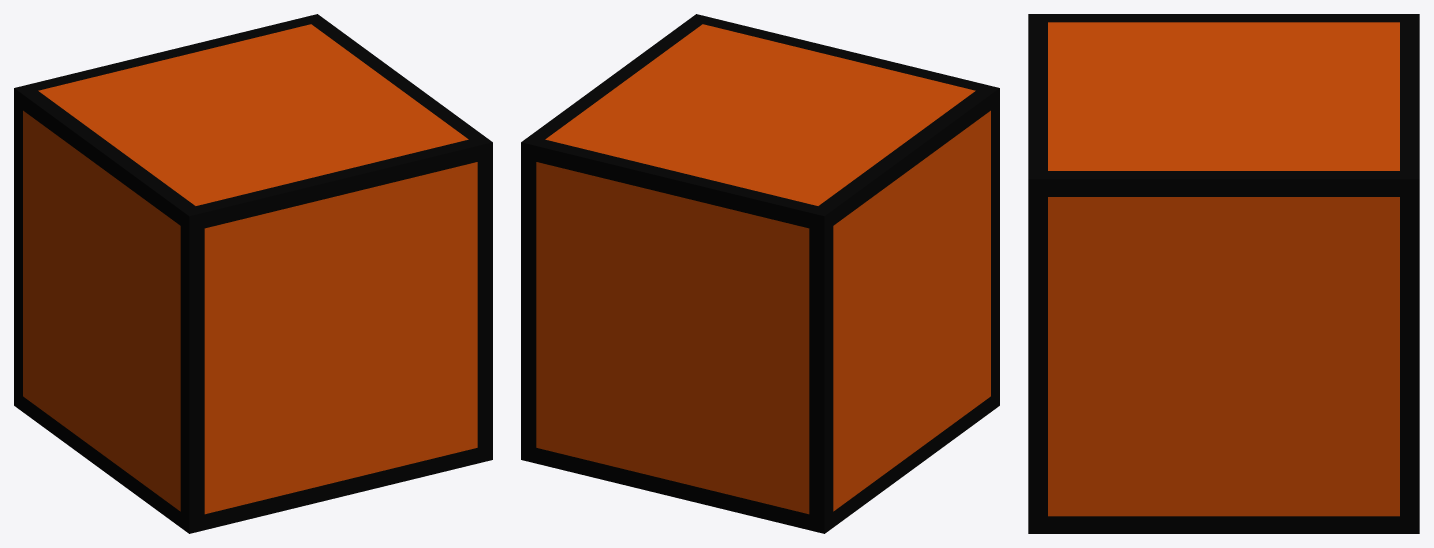
The model's file is Orange.fbx.
The picture shows the model from 3 angles, left to right: view 1: azimuth 30°, elevation 25°; view 2: azimuth 150°, elevation 25°; view 3: azimuth 270°, elevation 25°; orthographic projection. The views are drawn at different scales.
Parts seen in each view (by area): view 1: Cube; view 2: Cube; view 3: Cube.
Boxes of the visible parts, x1,y1,x2,y2 form: Cube: [14, 14, 492, 533]; Cube: [521, 14, 999, 533]; Cube: [1028, 14, 1419, 533].
Size of the model in its own units: 200 by 200 by 200.
